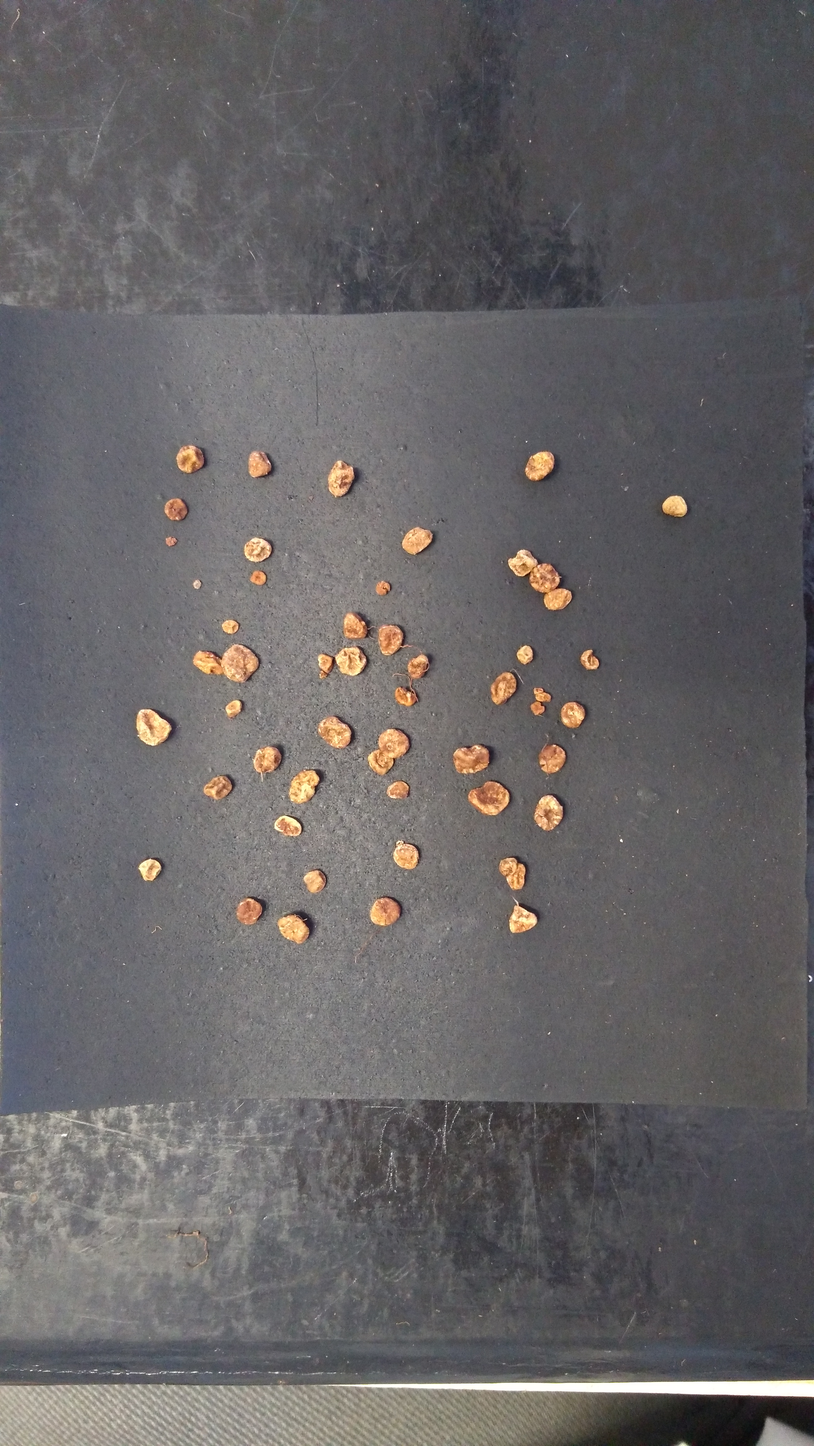nodule: (514, 443, 571, 493), (132, 704, 185, 752), (462, 777, 516, 824), (311, 710, 363, 756), (361, 891, 412, 932), (448, 740, 499, 779), (220, 640, 266, 683), (395, 522, 445, 560), (497, 542, 543, 581), (285, 765, 328, 805), (324, 453, 359, 502), (495, 851, 532, 895), (240, 444, 282, 482), (655, 487, 692, 529), (537, 582, 585, 614), (334, 643, 371, 684), (276, 909, 315, 947), (229, 894, 270, 930), (199, 768, 240, 804), (486, 666, 521, 707), (532, 792, 567, 833), (241, 531, 282, 566), (503, 903, 545, 936), (525, 558, 563, 594), (334, 604, 370, 642), (269, 808, 306, 844), (189, 643, 227, 678), (537, 740, 569, 781), (132, 853, 168, 889), (387, 840, 424, 875), (249, 742, 284, 779), (172, 440, 209, 475), (376, 727, 416, 759), (576, 638, 606, 676), (376, 622, 405, 661), (558, 700, 592, 733), (298, 861, 330, 896), (365, 747, 398, 778), (159, 494, 193, 523), (391, 682, 421, 713), (384, 780, 417, 806), (406, 651, 434, 680), (512, 641, 540, 667), (220, 694, 247, 719), (316, 649, 335, 682), (245, 567, 270, 588), (219, 615, 243, 636), (374, 574, 394, 598), (159, 531, 182, 550), (526, 700, 548, 718), (532, 691, 554, 704), (190, 576, 205, 592), (531, 683, 547, 695)
